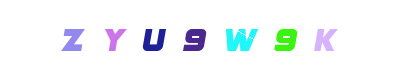9: (162, 0, 242, 80), (239, 0, 319, 80)
K: (246, 0, 326, 80)
U: (136, 0, 216, 80)
W: (199, 0, 279, 80)
Y: (74, 0, 154, 80)
Z: (45, 0, 125, 80)
